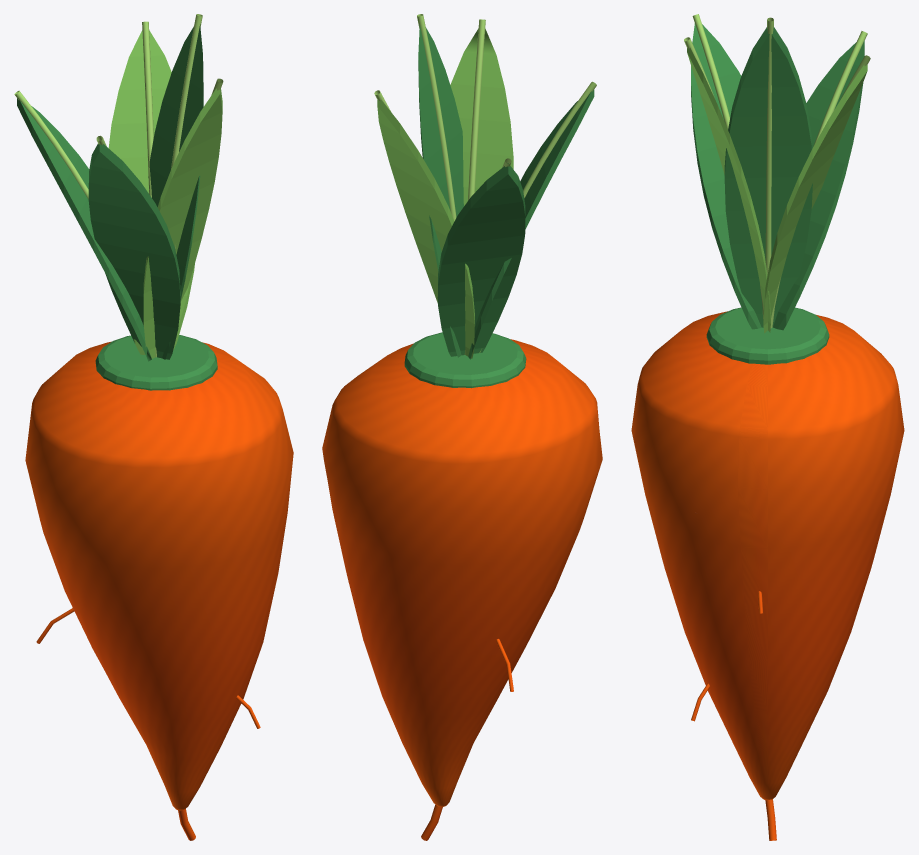
The model's file is carrot.fbx.
3 views of the same model, side by side, from view 1: azimuth 30°, elevation 25°; view 2: azimuth 150°, elevation 25°; view 3: azimuth 270°, elevation 25° (orthographic).
Visible parts, largest first — view 1: continuous-curved-carrot-root, five-lanceolate-leaf-blades, deep-green-embedded-leaf-crown, five-readable-leaf-veins; view 2: continuous-curved-carrot-root, five-lanceolate-leaf-blades, deep-green-embedded-leaf-crown, five-readable-leaf-veins; view 3: continuous-curved-carrot-root, five-lanceolate-leaf-blades, deep-green-embedded-leaf-crown, five-readable-leaf-veins.
Boxes of the visible parts, <box> form: continuous-curved-carrot-root: <box>25,341,293,810</box>; five-lanceolate-leaf-blades: <box>17,24,222,361</box>; deep-green-embedded-leaf-crown: <box>95,335,217,390</box>; five-readable-leaf-veins: <box>14,14,223,357</box>; continuous-curved-carrot-root: <box>322,339,602,806</box>; five-lanceolate-leaf-blades: <box>377,24,594,359</box>; deep-green-embedded-leaf-crown: <box>404,332,526,388</box>; five-readable-leaf-veins: <box>374,14,596,354</box>; continuous-curved-carrot-root: <box>631,311,904,800</box>; five-lanceolate-leaf-blades: <box>687,23,867,333</box>; deep-green-embedded-leaf-crown: <box>706,307,829,364</box>; five-readable-leaf-veins: <box>684,14,870,328</box>.
Bounding box in the file's own units: 30.63 × 100 × 29.95.
